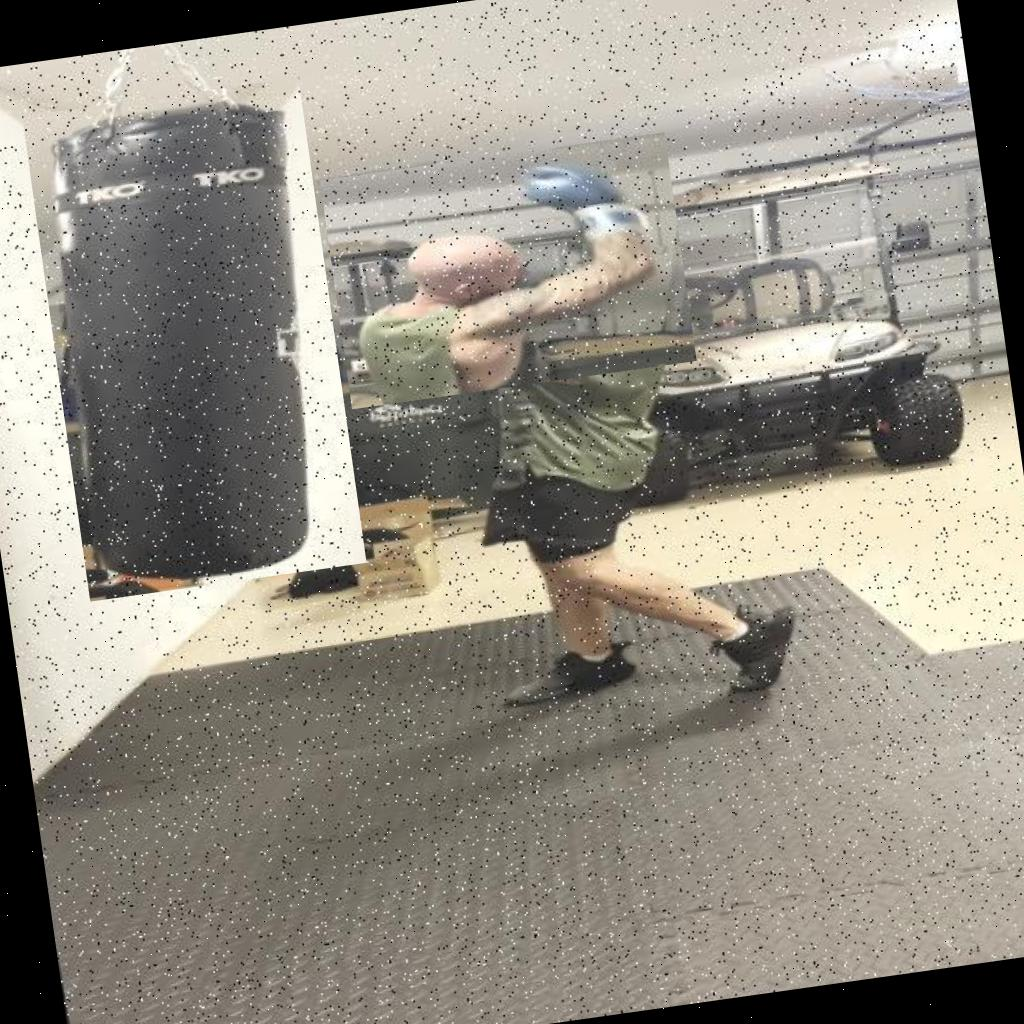bag: (22, 78, 367, 602)
uppercut: (320, 132, 697, 409)
